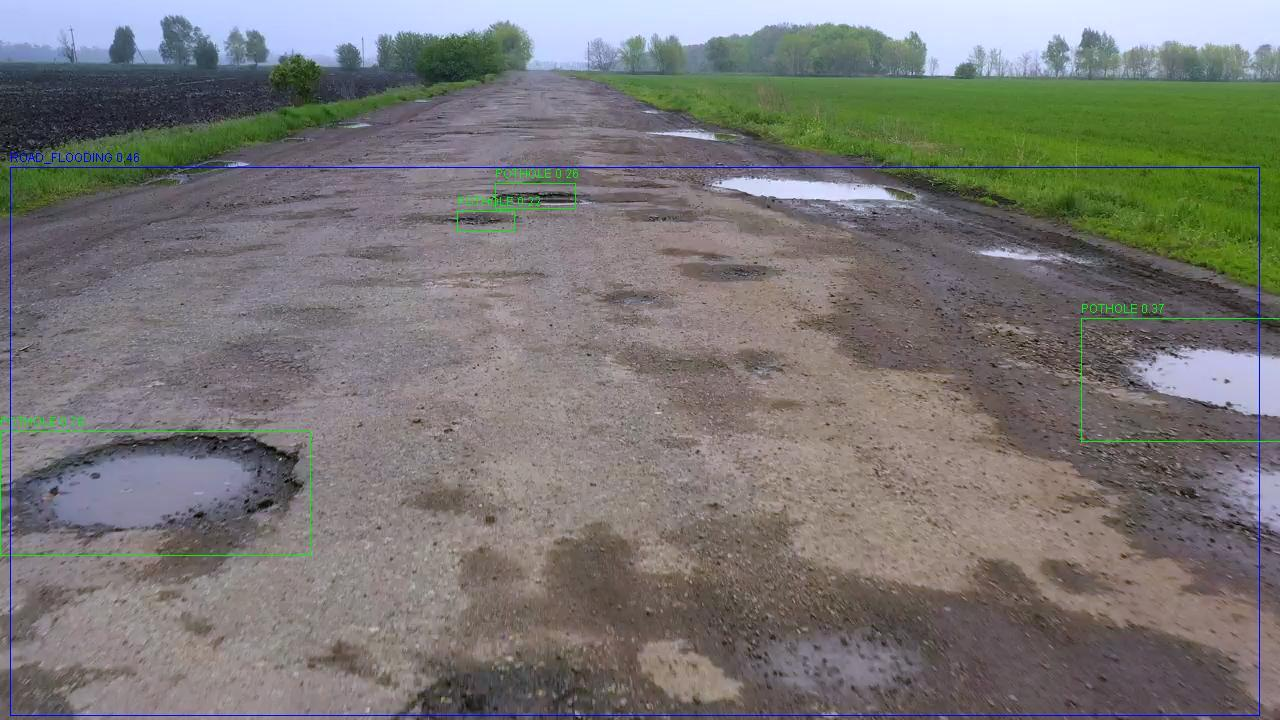POTHOLE: (352, 342, 851, 551)
